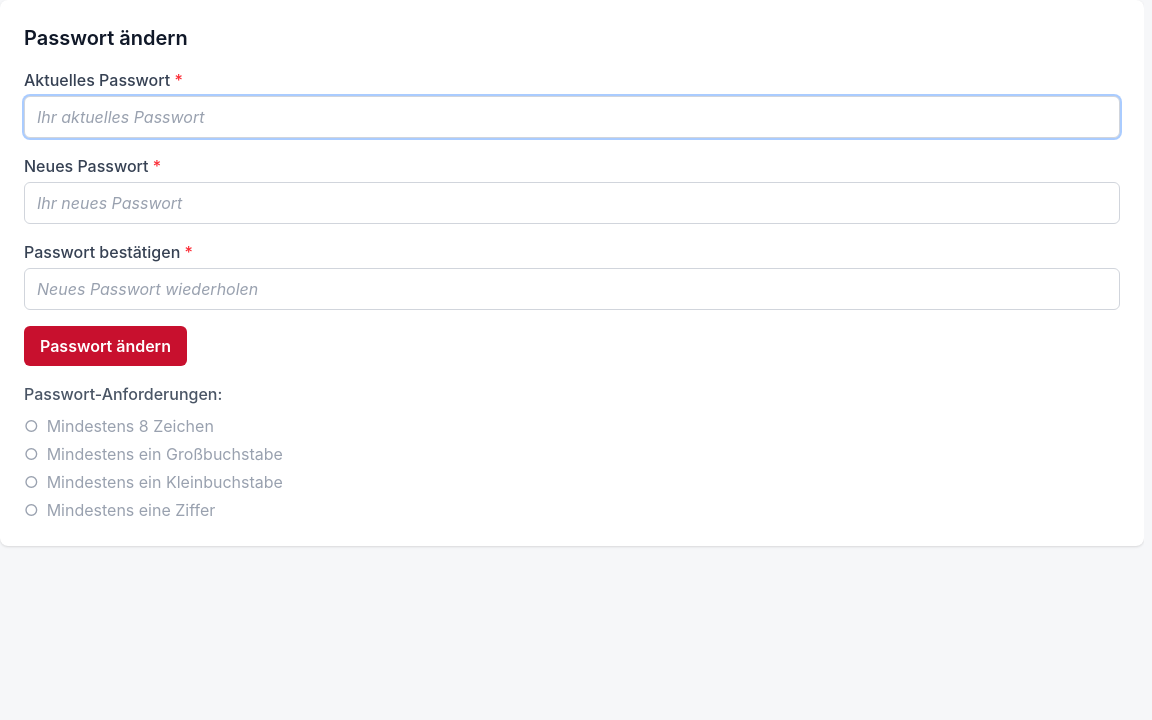
Scenario: PasswordChangeForm › Validation › shows validation errors for empty fields after submission attempt
Click the button "Passwort ändern" at (105, 346), box [24,326,187,366]
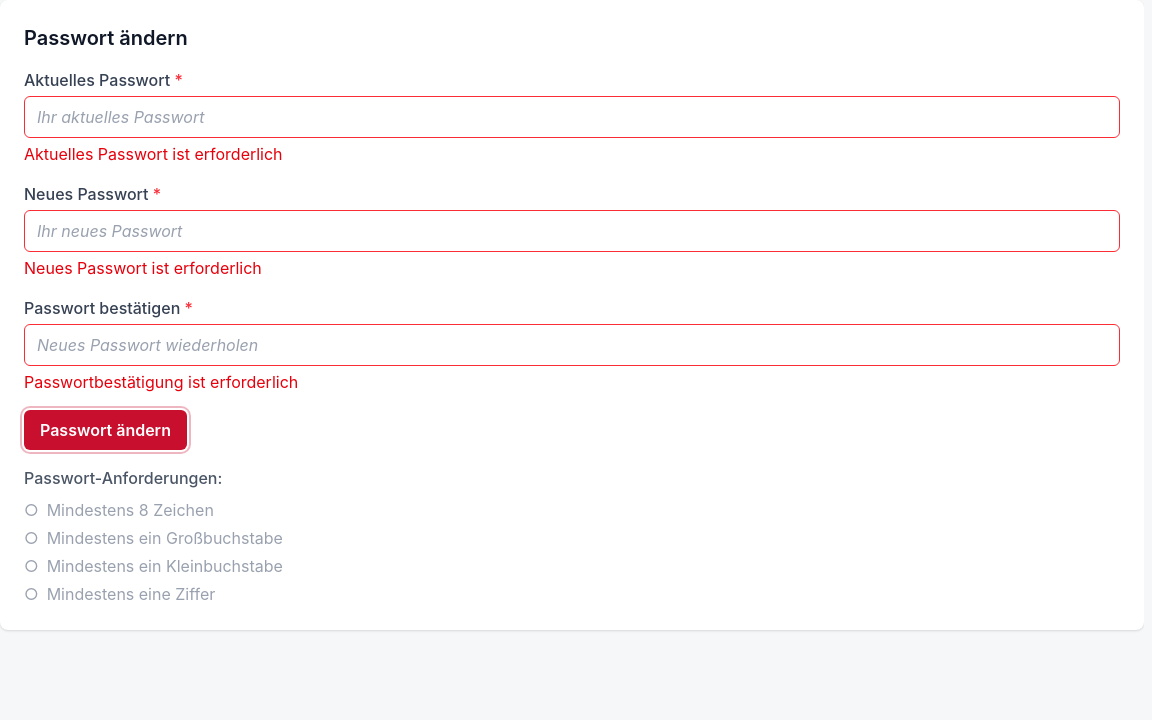
Result: the text "Aktuelles Passwort ist erforderlich" is shown at [24,144,283,164]
Result: the text "Neues Passwort ist erforderlich" is shown at [24,258,262,278]
Result: the text "Passwortbestätigung ist erforderlich" is shown at [24,372,298,392]
